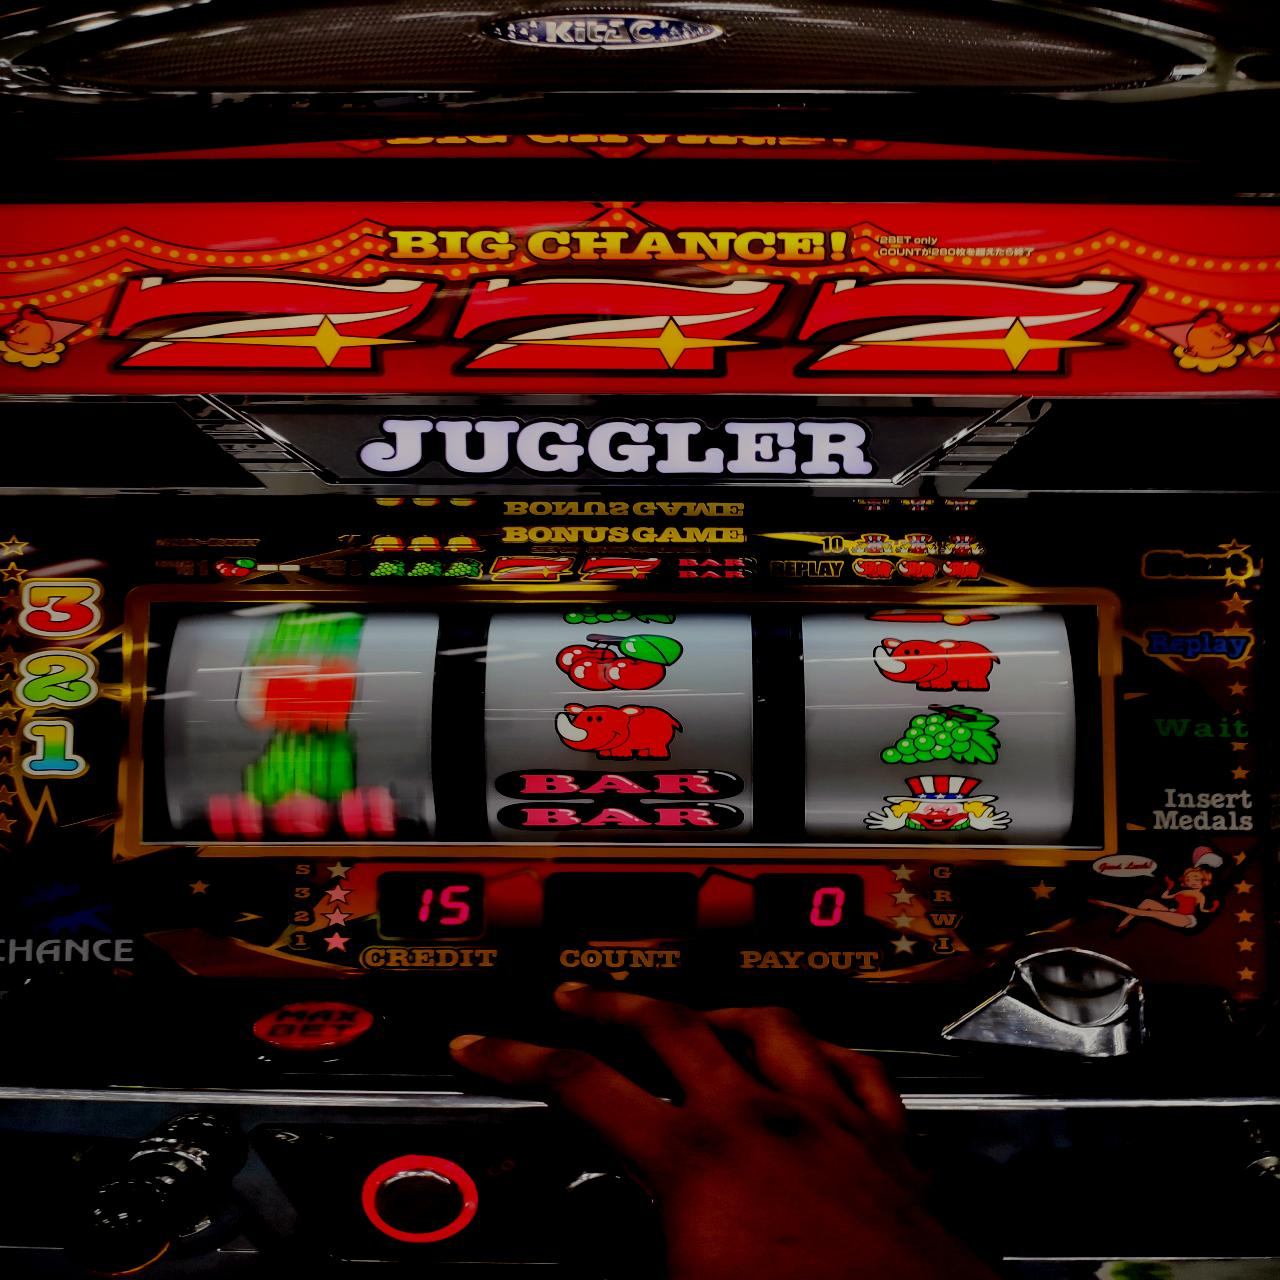8: (866, 633, 1002, 690), (552, 704, 682, 760)
bar: (492, 768, 745, 831)
cherry: (552, 632, 685, 689)
clown: (858, 774, 1012, 836)
grape: (878, 703, 1003, 767)
rhino: (128, 590, 1116, 860)
